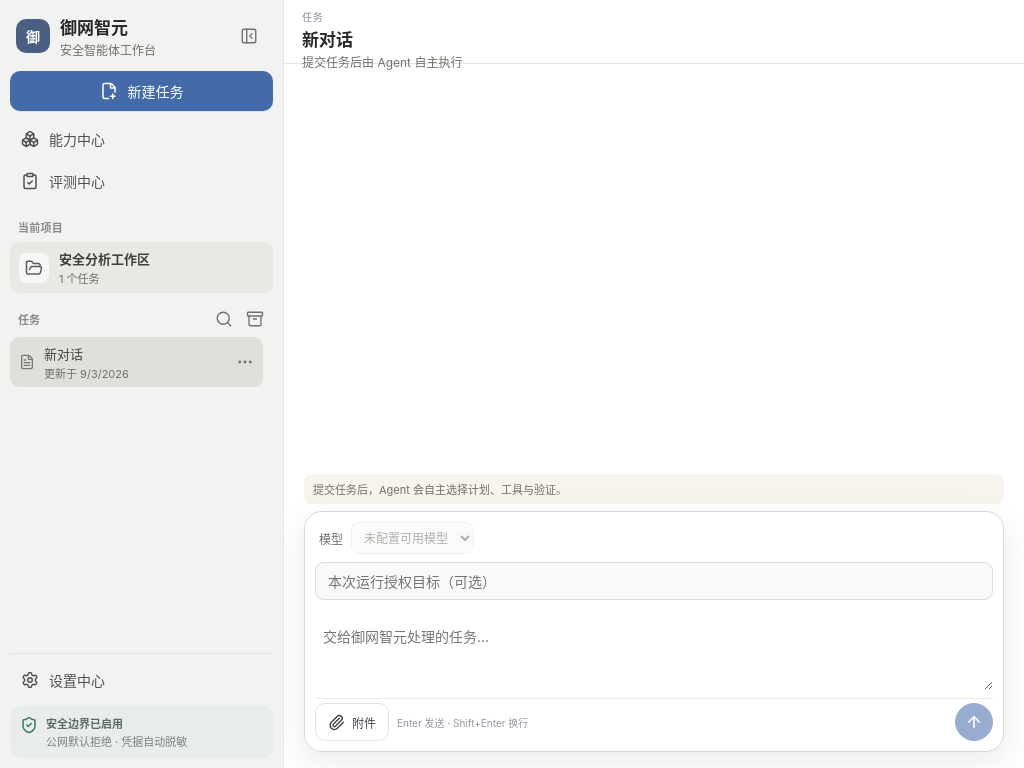
Test: App › 普通消息走统一入口并显示自然语言回复，不创建任务卡
Type "你好" into the text box named "消息" at (654, 653), box [315,616,993,690]
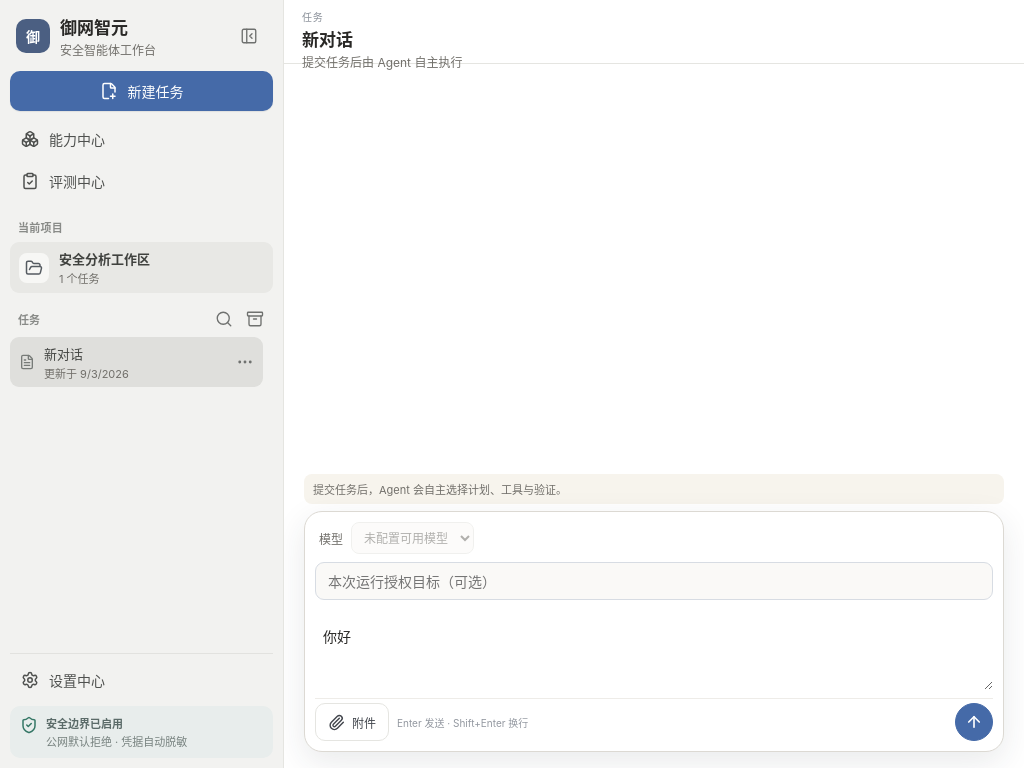
Press Enter in the text box named "消息", box [315,616,993,690]
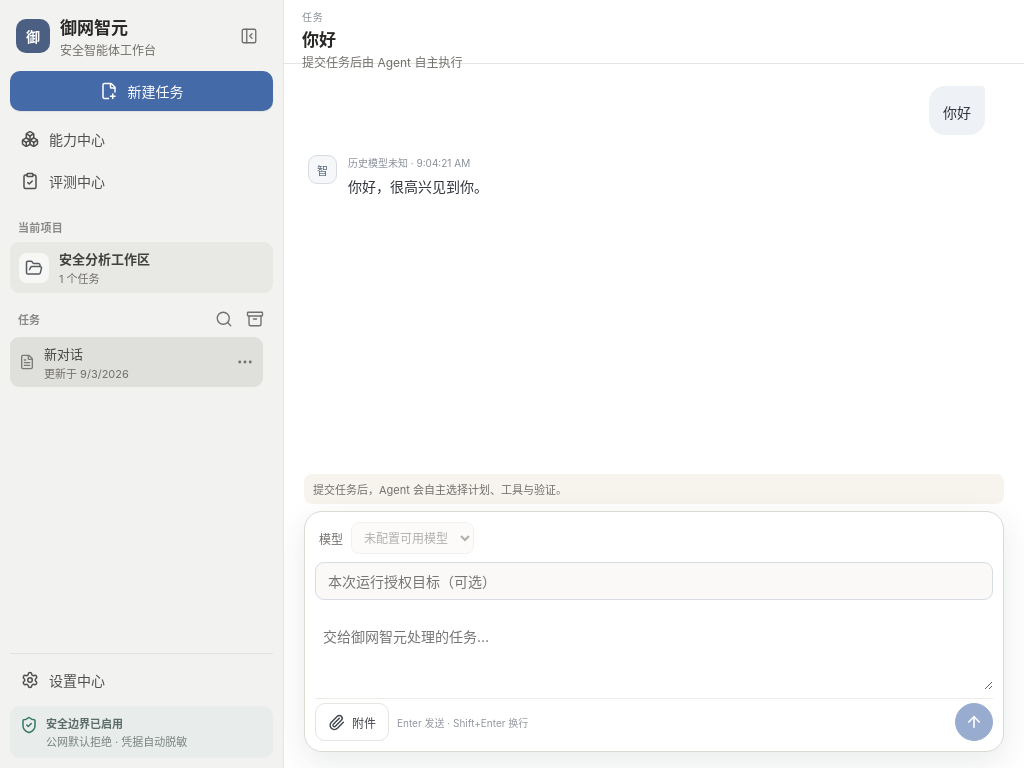
Check: the text "你好，很高兴见到你。" is shown, box [348,175,488,199]
